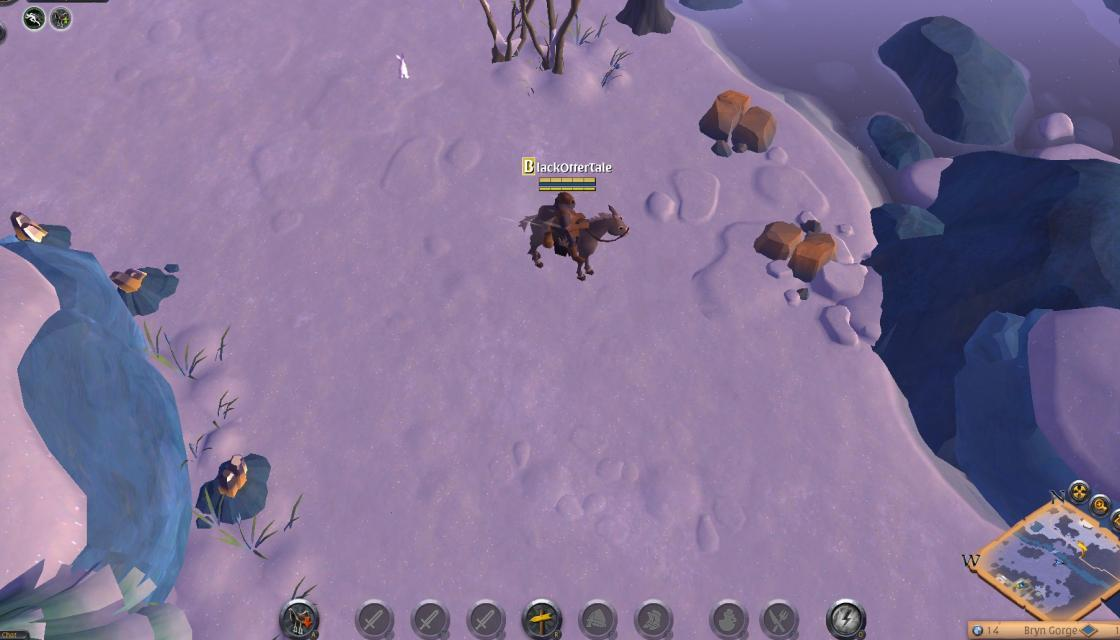copperore: (197, 448, 270, 520), (102, 262, 176, 315), (2, 206, 73, 254)
limestone: (746, 216, 840, 286), (698, 88, 778, 156)
